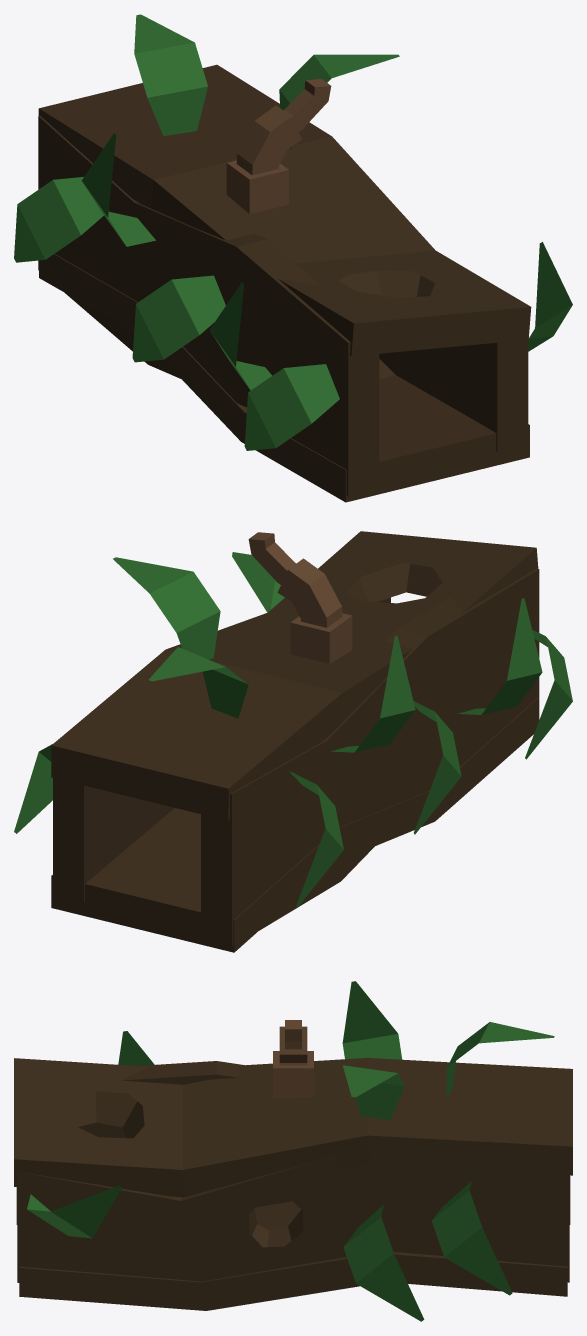
Rendered from destroywood.fbx.
3 renders of one model, top to bottom at view 1: azimuth 30°, elevation 25°; view 2: azimuth 150°, elevation 25°; view 3: azimuth 270°, elevation 25°, orthographic. The views are drawn at different scales.
Visible parts, largest first — view 1: Cube.002, Cube, Cube.003, Cube.001, Cube.004, Plane, Plane.005, Plane.006, Plane.004, Plane.002, Plane.007, Plane.001 (+1 smaller); view 2: Cube.002, Cube, Cube.003, Cube.001, Cube.004, Plane.001, Plane, Plane.002, Plane.003, Plane.004, Plane.006, Plane.005 (+2 smaller); view 3: Cube.002, Cube.001, Cube.003, Plane.009, Plane.008, Plane.002, Cube, Cube.004, Plane.007, Plane.001, Plane, Plane.003.
Boxes of the visible parts, box(x1,y1,x2,y2) form: Cube.002: box(38, 64, 531, 356); Cube: box(38, 115, 379, 496); Cube.003: box(39, 254, 529, 502); Cube.001: box(379, 271, 528, 451); Cube.004: box(226, 79, 331, 214); Plane: box(134, 14, 207, 136); Plane.005: box(244, 364, 339, 450); Plane.006: box(132, 275, 225, 362); Plane.004: box(14, 177, 109, 262); Plane.002: box(81, 133, 155, 246); Plane.007: box(528, 242, 572, 351); Plane.001: box(279, 54, 399, 150); Cube.002: box(51, 531, 538, 820); Cube: box(201, 568, 539, 947); Cube.003: box(51, 697, 538, 952); Cube.001: box(53, 597, 390, 902); Cube.004: box(248, 532, 352, 663); Plane.001: box(113, 557, 220, 659); Plane: box(148, 647, 248, 718); Plane.002: box(330, 635, 415, 752); Plane.003: box(457, 598, 542, 714); Plane.004: box(289, 771, 343, 907); Plane.006: box(413, 701, 461, 834); Plane.005: box(525, 630, 572, 759); Cube.002: box(14, 1058, 572, 1197); Cube.001: box(17, 1154, 569, 1282); Cube.003: box(19, 1201, 567, 1310); Plane.009: box(343, 1204, 424, 1321); Plane.008: box(432, 1181, 512, 1295); Plane.002: box(342, 981, 402, 1059); Cube: box(16, 1061, 570, 1224); Cube.004: box(273, 1020, 313, 1098); Plane.007: box(27, 1185, 121, 1238); Plane.001: box(342, 1065, 404, 1120); Plane: box(446, 1022, 554, 1099); Plane.003: box(118, 1031, 154, 1065).
Bounding box in the file's own units: 242 × 214 × 414.
